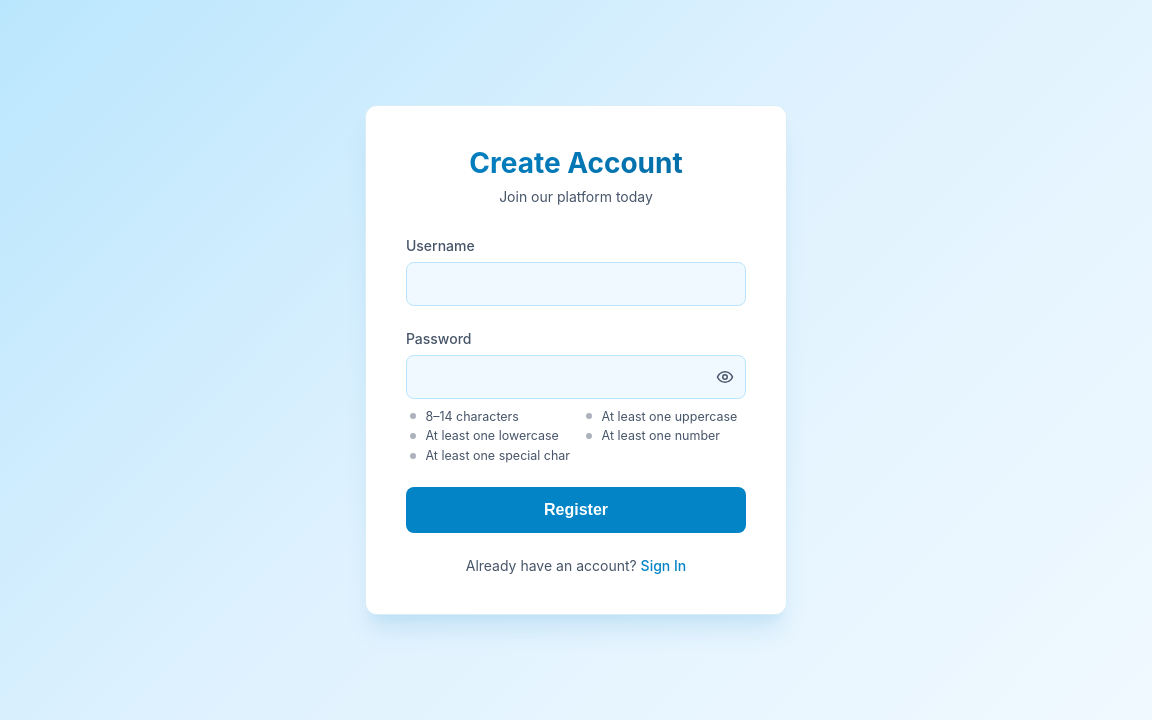
it: Register page › shows success message on successful registration
Type "newuser" into the field labelled "Username" at x=576, y=284, box [406, 262, 746, 306]
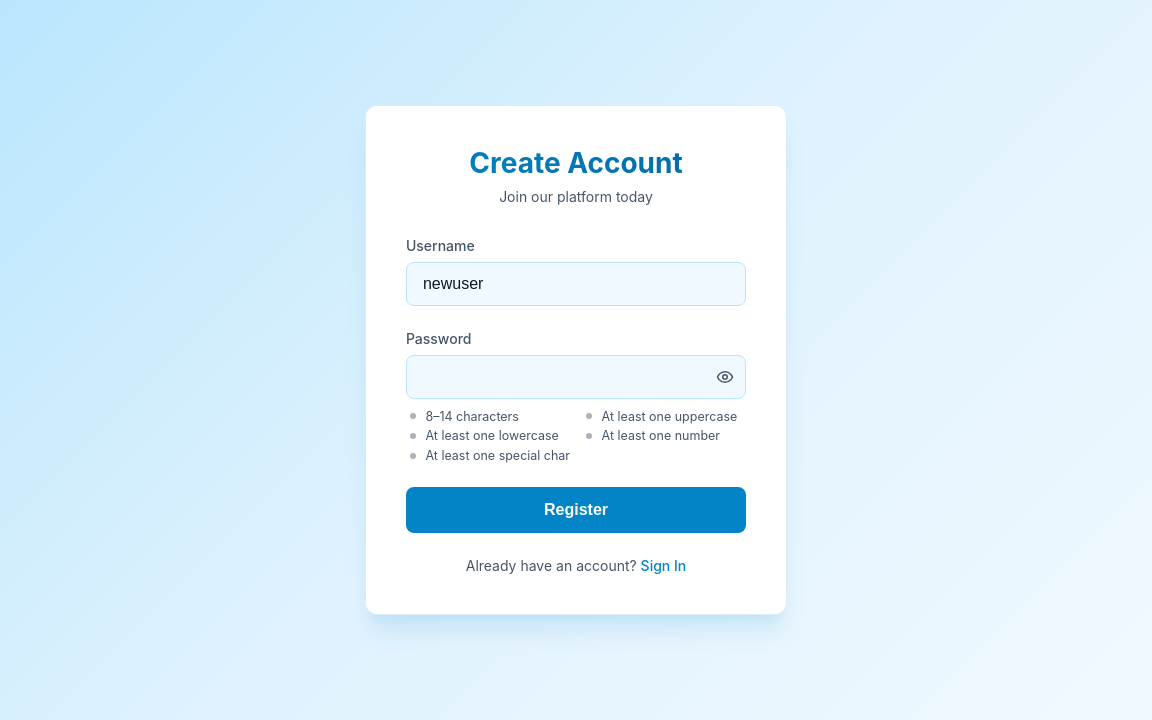
Type "Test@123" into the password field labelled "Password" at x=576, y=377, box [406, 355, 746, 399]
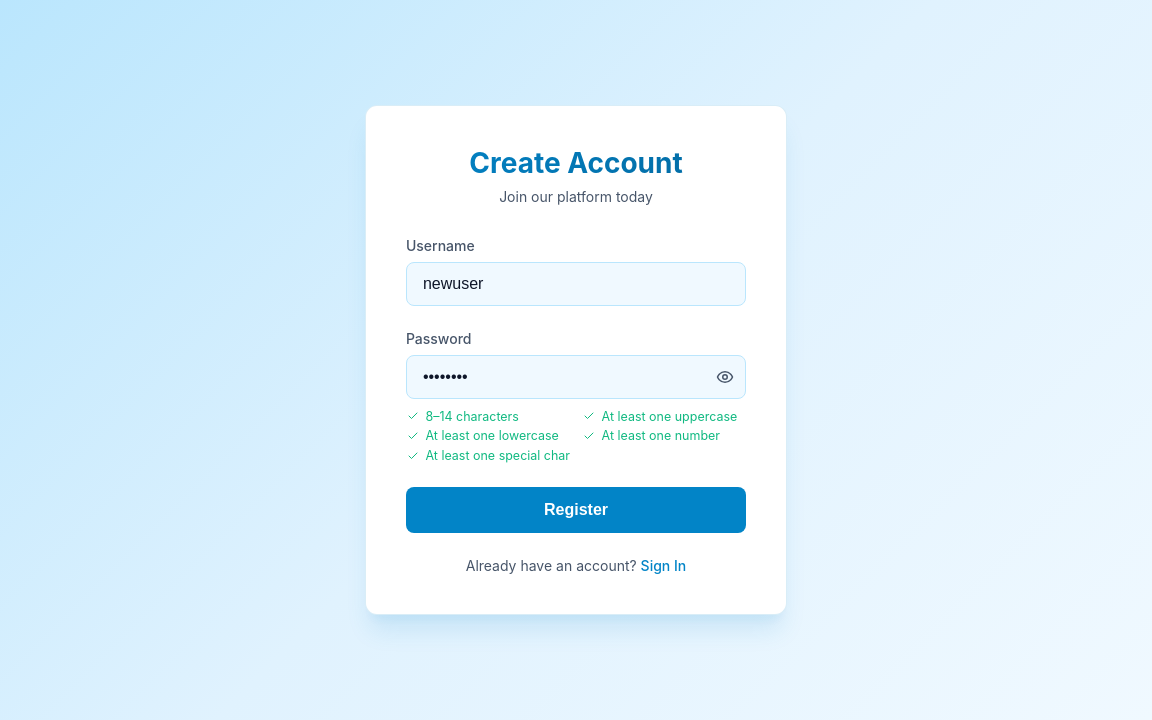
Click the button "Register" at x=576, y=510, box [406, 487, 746, 533]
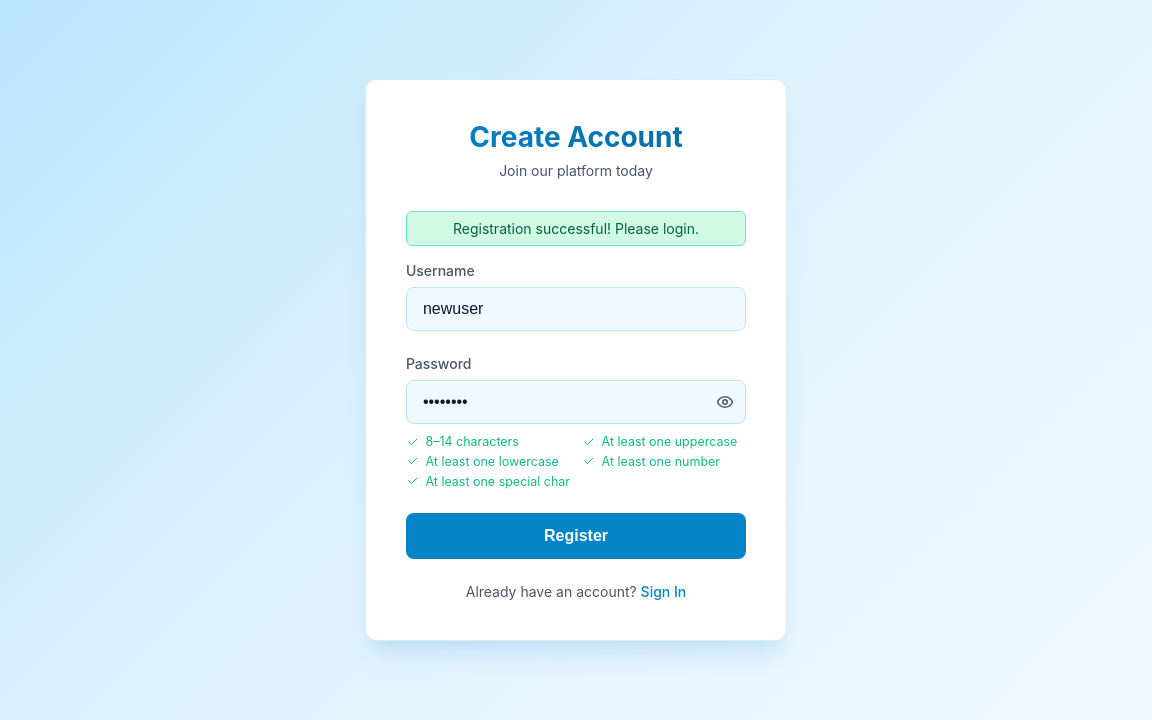
Now the text "Registration successful! Please login." is shown, box [406, 211, 746, 246]
